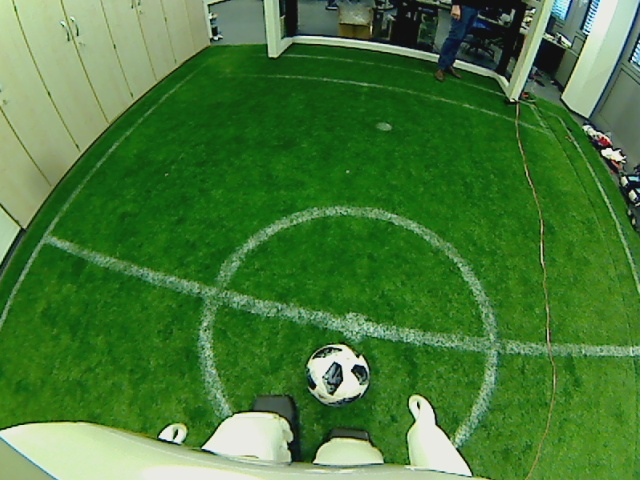ball: (306, 342, 371, 404)
